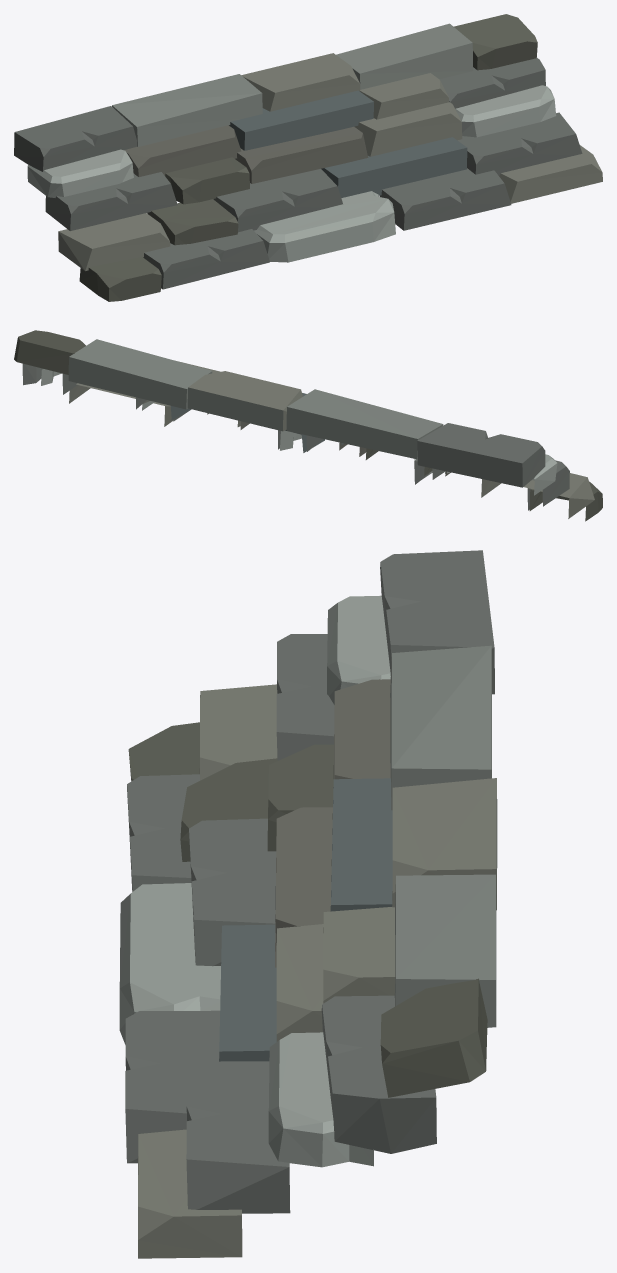
Rendered from ZLP_Stairs_A_10.FBX.
3 views of the same model, one above another, from view 1: azimuth 30°, elevation 25°; view 2: azimuth 150°, elevation 25°; view 3: azimuth 270°, elevation 25° (orthographic). The views are drawn at different scales.
Parts seen in each view (by area): view 1: ZLP_Stairs_A_10; view 2: ZLP_Stairs_A_10; view 3: ZLP_Stairs_A_10.
Part boxes in pixels (left/top/right/bottom): ZLP_Stairs_A_10: left=14, top=14, right=602, bottom=301; ZLP_Stairs_A_10: left=14, top=330, right=602, bottom=521; ZLP_Stairs_A_10: left=119, top=550, right=497, bottom=1258.
Size of the model in its own units: 752 by 160 by 244.
